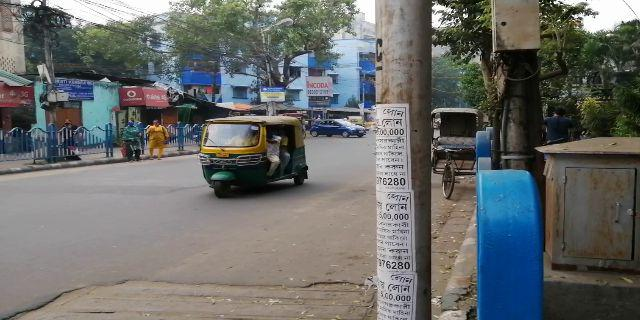Autorickshaw: (192, 117, 311, 200)
